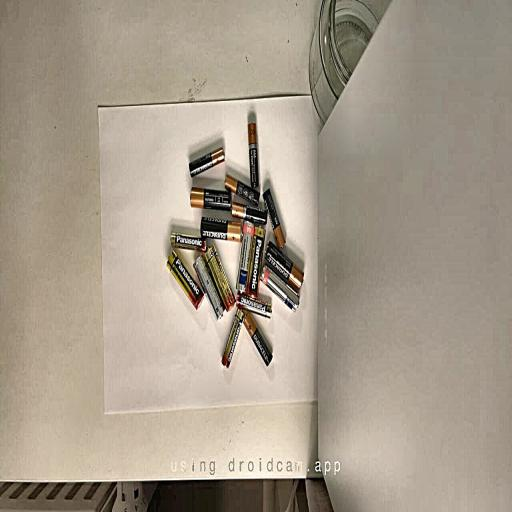DuracellAA: (265, 241, 304, 292), (190, 187, 232, 211), (201, 216, 241, 241)
DuracellAAA: (243, 313, 272, 366), (263, 188, 285, 248), (224, 174, 259, 206), (189, 146, 224, 177), (231, 203, 267, 225), (248, 122, 259, 191)
PanasonicAA: (167, 250, 204, 309), (205, 245, 235, 311), (246, 228, 264, 297)
PanasonicAAA: (222, 309, 246, 367), (237, 292, 272, 318), (170, 231, 206, 252)
RainbowAA: (194, 255, 223, 319), (260, 265, 299, 311), (237, 221, 255, 292)
